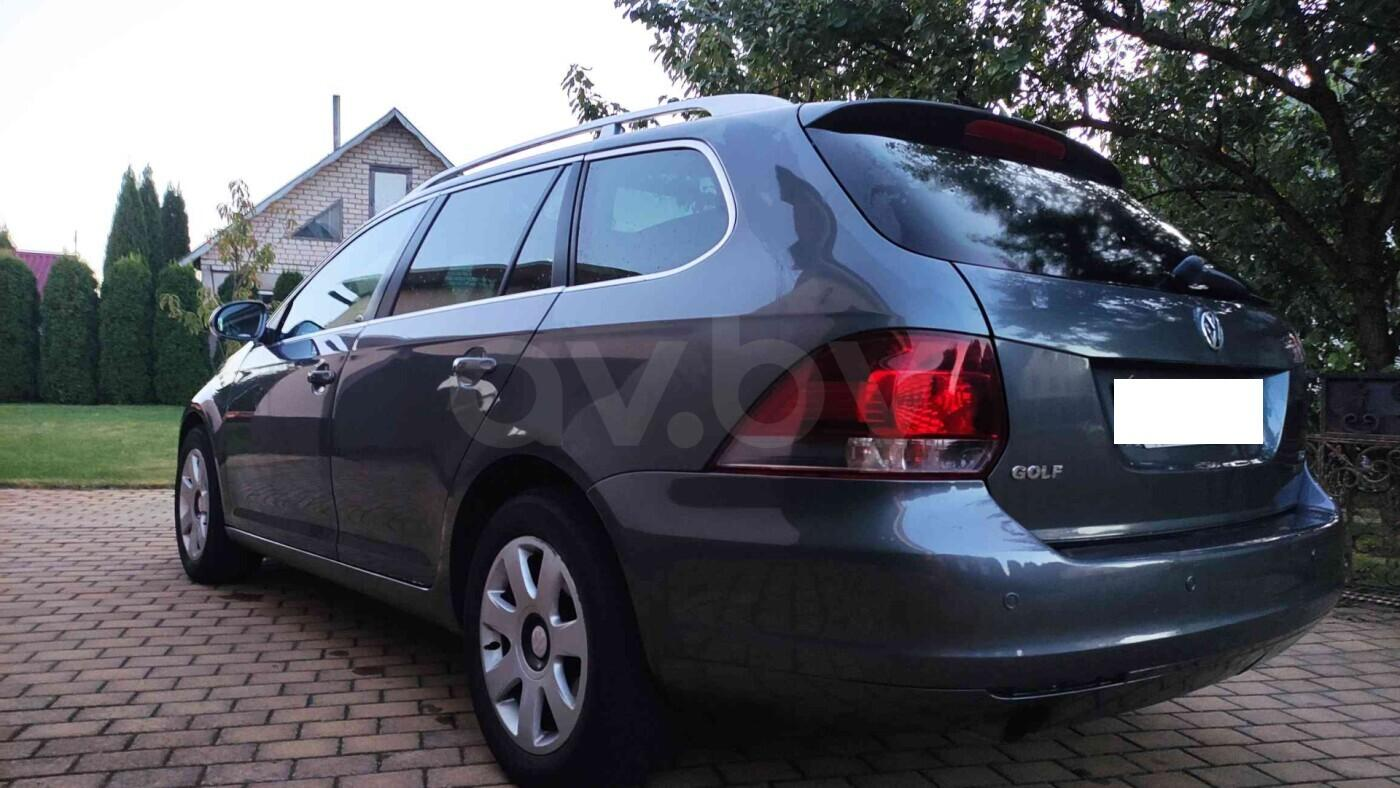Golf_2008-2013: (170, 94, 1337, 788)
